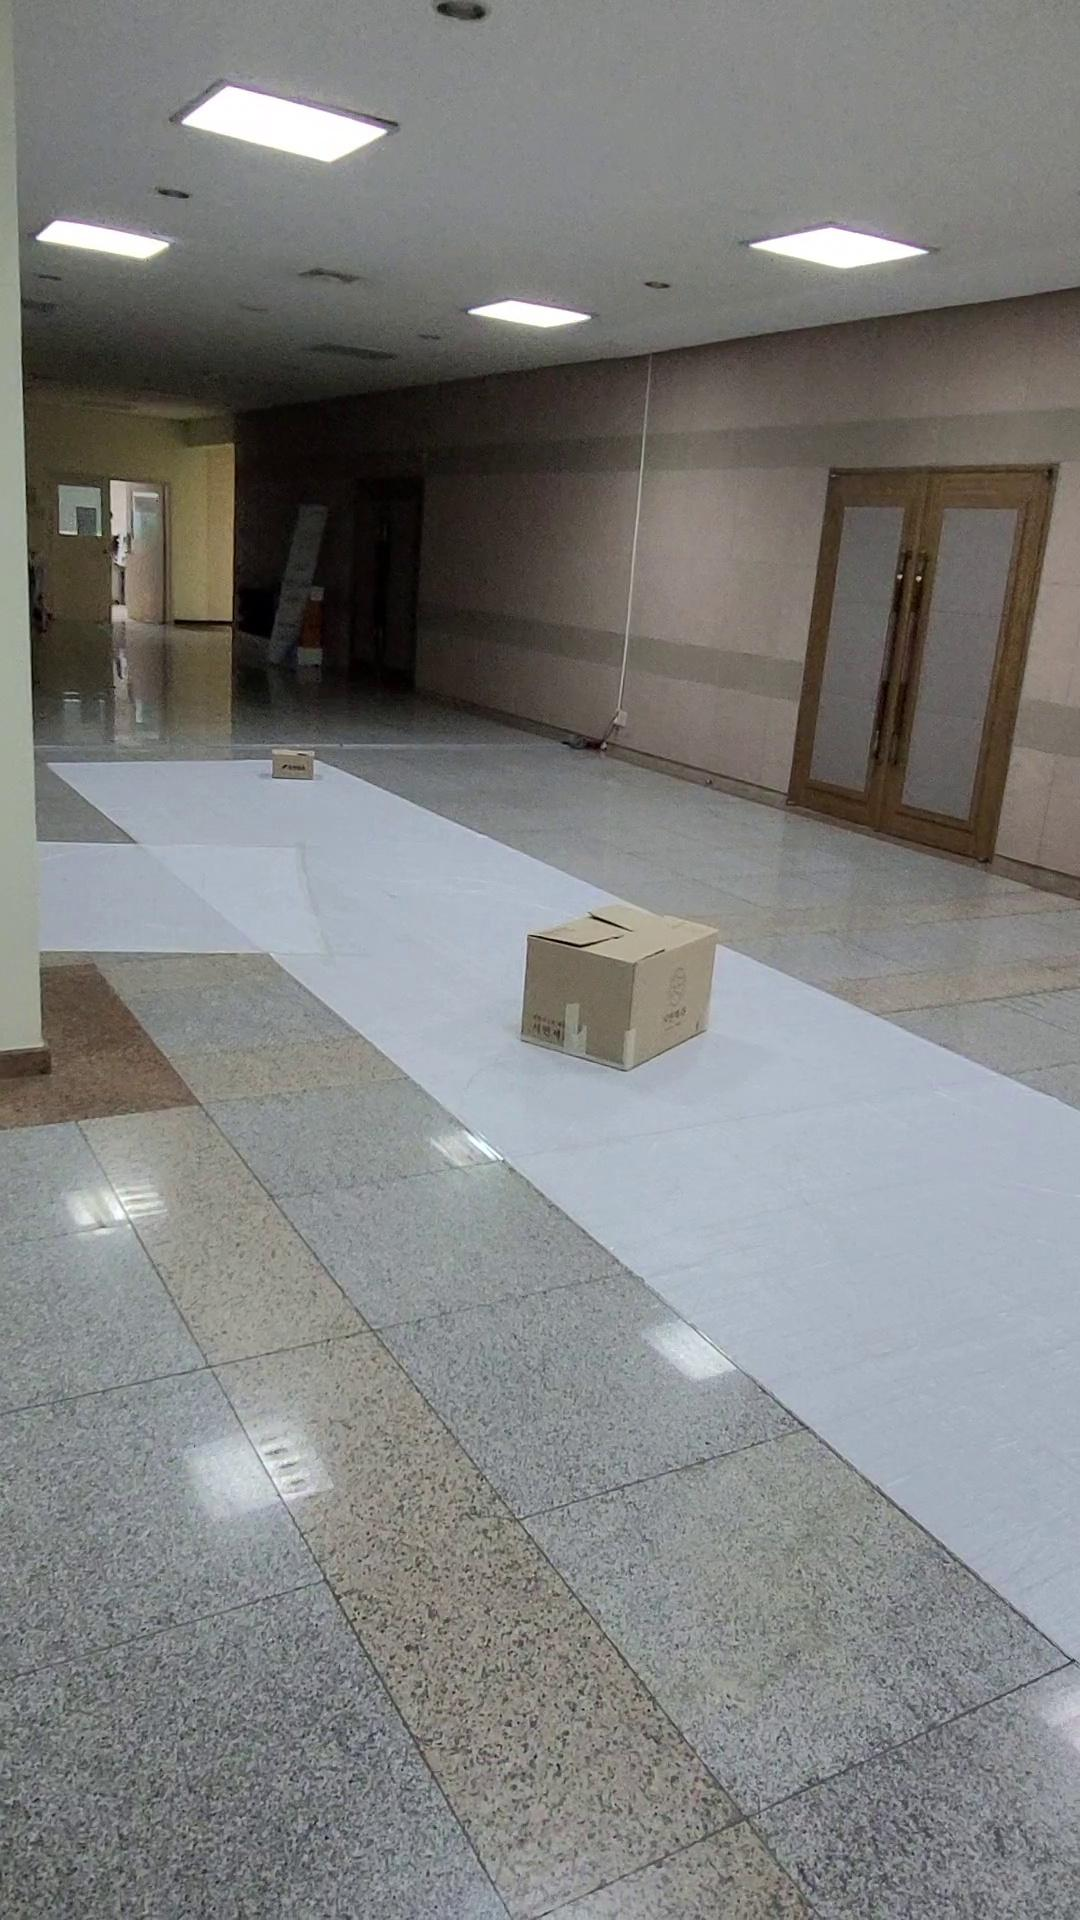Box: (481, 862, 742, 1105), (243, 713, 338, 815)
